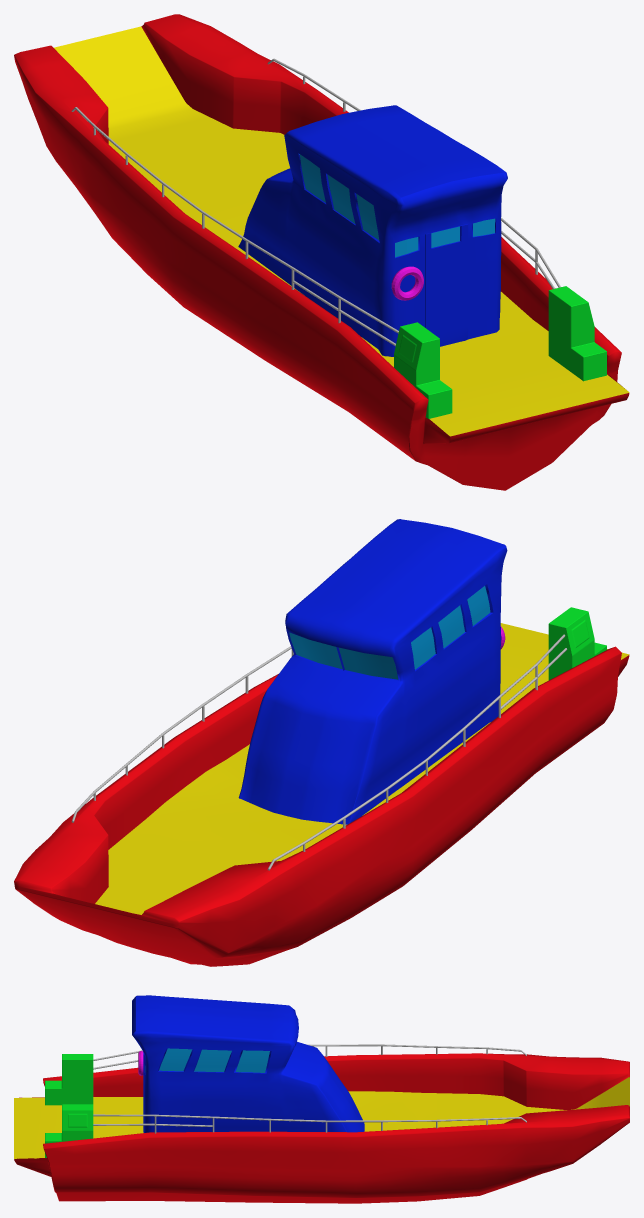
The model's file is Boat_UVBase5.fbx.
The picture shows the model from 3 angles, top to bottom: view 1: azimuth 30°, elevation 25°; view 2: azimuth 150°, elevation 25°; view 3: azimuth 270°, elevation 25°; orthographic projection. The views are drawn at different scales.
Visible parts, largest first — view 1: Hull, Cockpit.001, Floor, Cube, Aita.001, SideWindows, BackWindows, Lifeguard; view 2: Hull, Cockpit.001, Floor, Aita.001, Cube, FrontWindows, SideWindows; view 3: Hull, Cockpit.001, Floor, Cube, Aita.001, SideWindows.
Part boxes in pixels (left/top/right/bottom): Hull: left=14, top=14, right=629, bottom=490; Cockpit.001: left=238, top=105, right=507, bottom=356; Floor: left=54, top=26, right=629, bottom=436; Cube: left=394, top=286, right=606, bottom=418; Aita.001: left=71, top=58, right=560, bottom=346; SideWindows: left=300, top=154, right=379, bottom=240; BackWindows: left=395, top=218, right=495, bottom=257; Lifeguard: left=391, top=266, right=423, bottom=300; Hull: left=14, top=646, right=629, bottom=966; Cockpit.001: left=238, top=519, right=507, bottom=824; Floor: left=95, top=623, right=629, bottom=914; Aita.001: left=71, top=634, right=567, bottom=870; Cube: left=548, top=607, right=606, bottom=680; FrontWindows: left=289, top=632, right=398, bottom=679; SideWindows: left=411, top=586, right=490, bottom=669; Hull: left=14, top=1053, right=629, bottom=1203; Cockpit.001: left=132, top=995, right=364, bottom=1132; Floor: left=14, top=1077, right=629, bottom=1158; Cube: left=45, top=1054, right=93, bottom=1157; Aita.001: left=93, top=1044, right=526, bottom=1133; SideWindows: left=159, top=1048, right=269, bottom=1072.
Bounding box in the file's own units: 433 × 464 × 1377.
